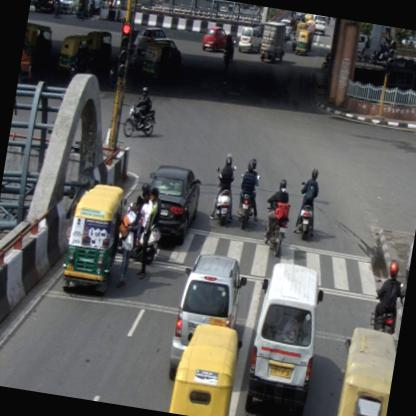car: (241, 260, 328, 415), (164, 249, 250, 385), (138, 164, 202, 245), (200, 26, 228, 56), (236, 26, 264, 54), (310, 14, 326, 37), (59, 0, 79, 16)
motorcycle: (256, 176, 294, 257), (208, 152, 240, 226), (121, 81, 160, 141), (293, 165, 323, 242), (231, 158, 262, 230)
truck: (258, 20, 290, 64), (30, 0, 61, 16)
